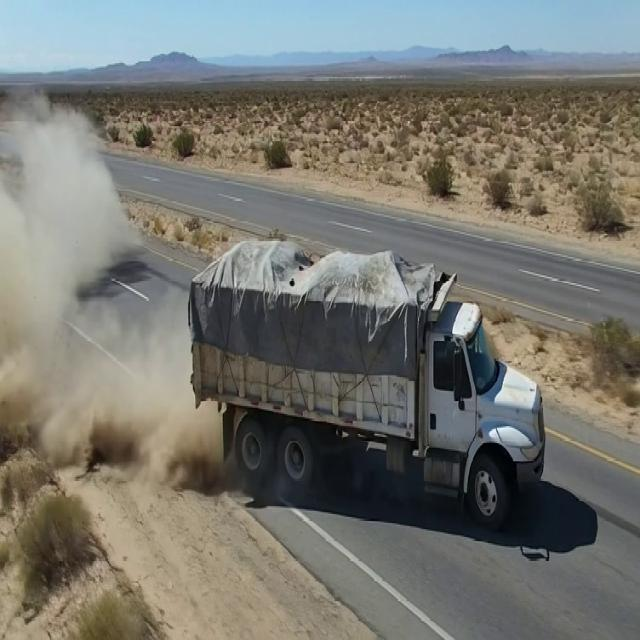Box: (188, 228, 472, 314)
Truck: (175, 223, 579, 514)
